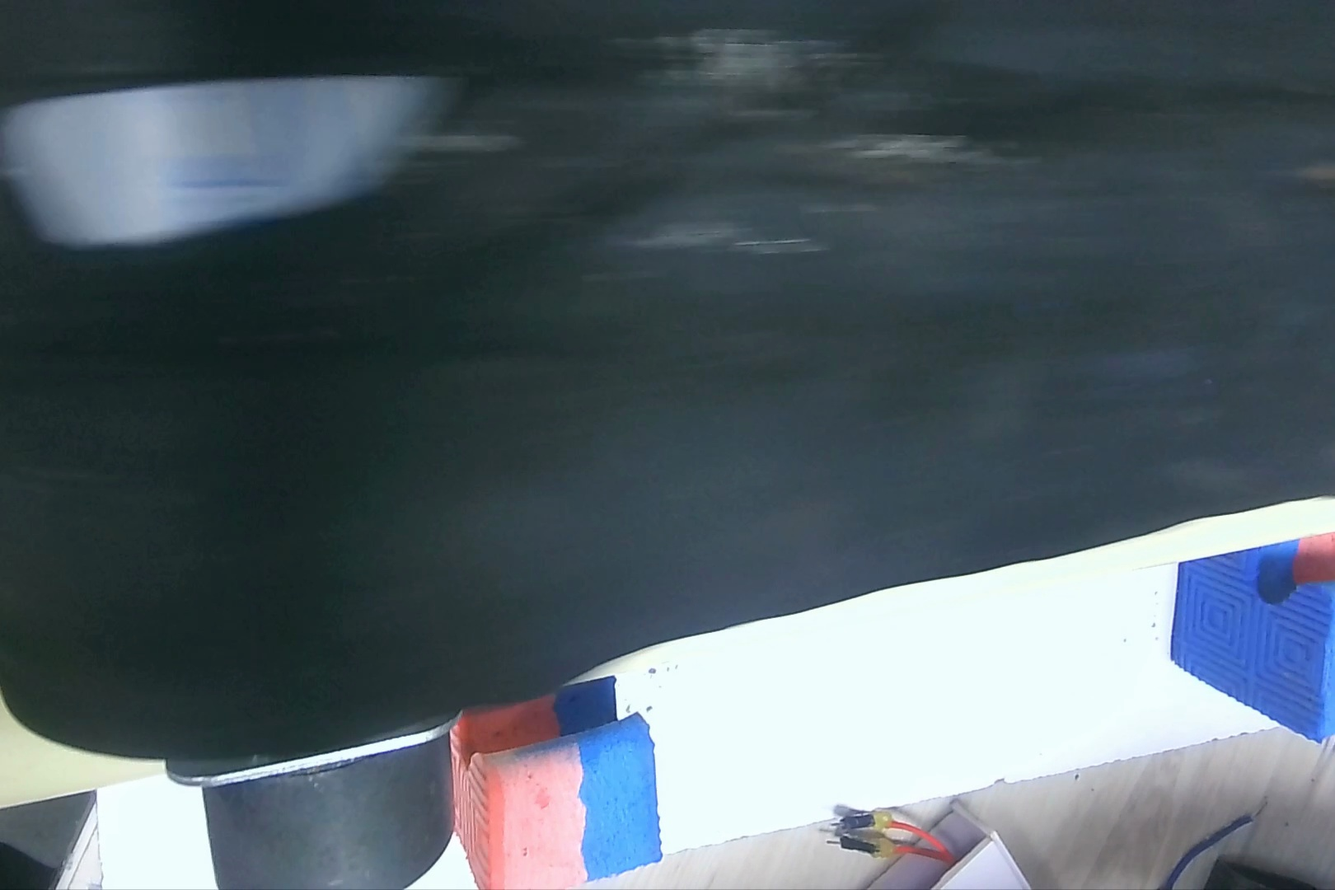hole: (14, 100, 449, 228)
